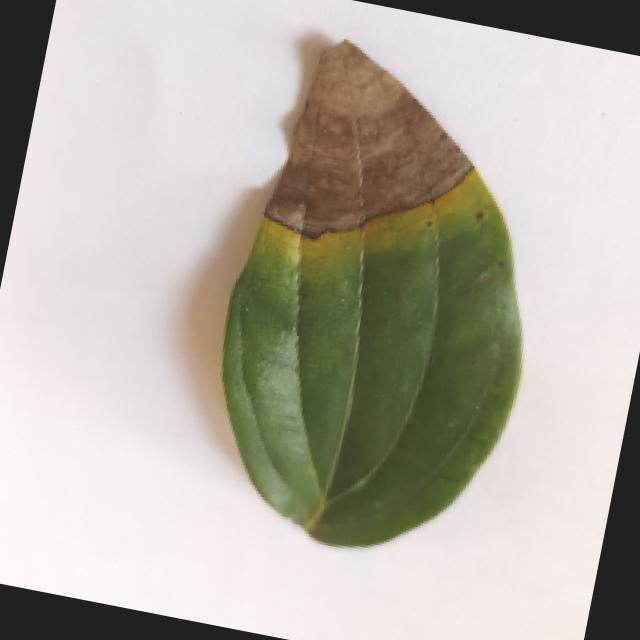footrot: (181, 22, 580, 580)
